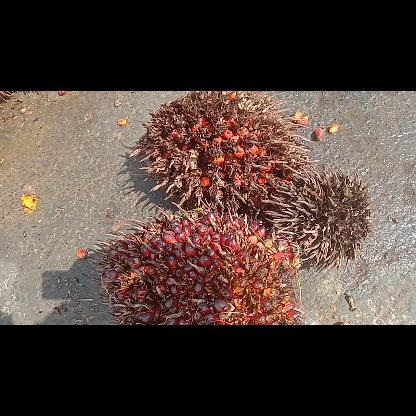Janjang kosong: (262, 163, 374, 268)
TBS masak: (89, 198, 305, 324)
Terlalu masak: (129, 91, 311, 216)
